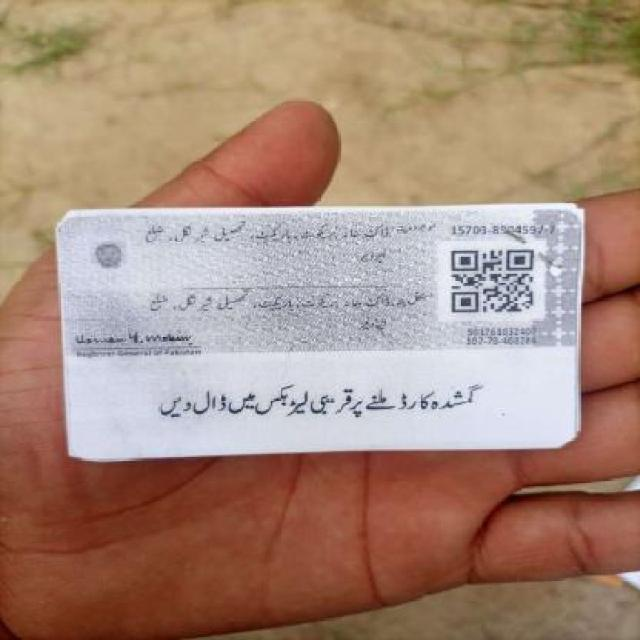Back: (51, 202, 594, 466)
